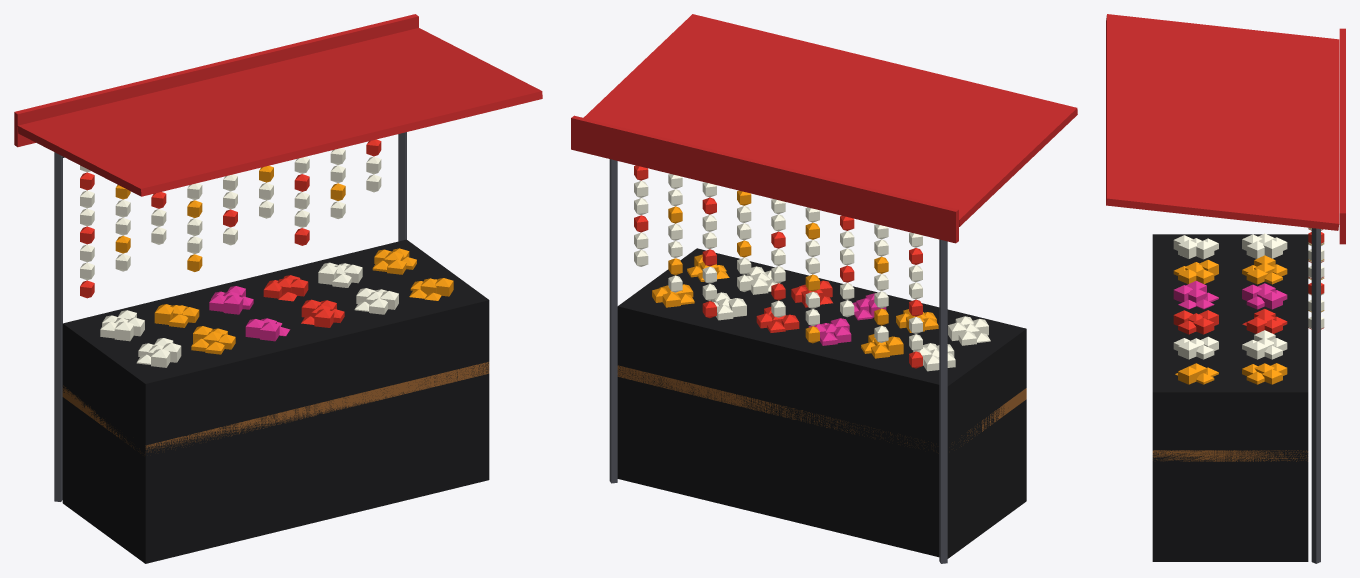
Rendered from env_bf_flower_stall.fbx.
The picture shows the model from 3 angles, left to right: view 1: azimuth 30°, elevation 25°; view 2: azimuth 150°, elevation 25°; view 3: azimuth 270°, elevation 25°; orthographic projection. The views are drawn at different scales.
Parts seen in each view (by area): view 1: COL_env_bf_flower_stall, env_bf_flower_stall_geo_LOD0; view 2: env_bf_flower_stall_geo_LOD0, COL_env_bf_flower_stall; view 3: env_bf_flower_stall_geo_LOD0, COL_env_bf_flower_stall.
Boxes of the visible parts, x1,y1,x2,y2 form: COL_env_bf_flower_stall: (62, 239, 489, 563); env_bf_flower_stall_geo_LOD0: (14, 14, 542, 501); env_bf_flower_stall_geo_LOD0: (571, 14, 1077, 563); COL_env_bf_flower_stall: (617, 248, 1026, 558); env_bf_flower_stall_geo_LOD0: (1106, 14, 1345, 563); COL_env_bf_flower_stall: (1152, 234, 1308, 561).
Size of what is drawn, in the model's own units: 2.8 by 2.66 by 1.54.
